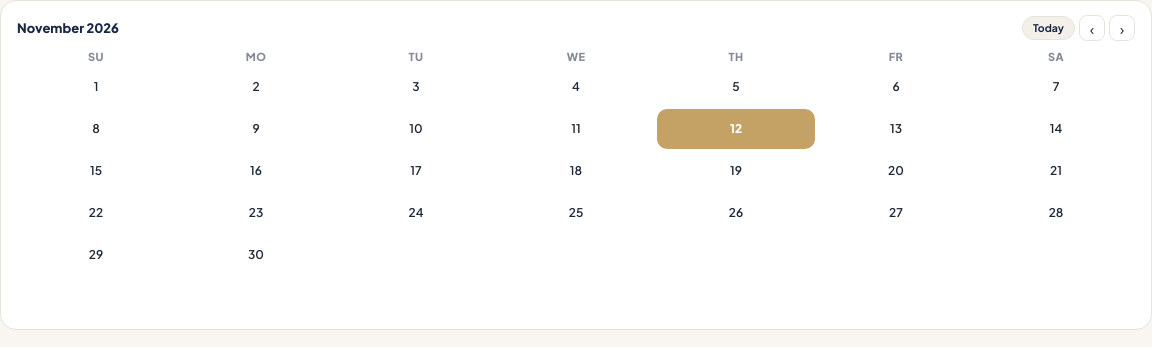
Test: 1. different month -> Today opens current month AND selects today
The image size is (1152, 347).
Click the button with aria-label "Go to today": (1048, 28) [1022,16,1075,40]
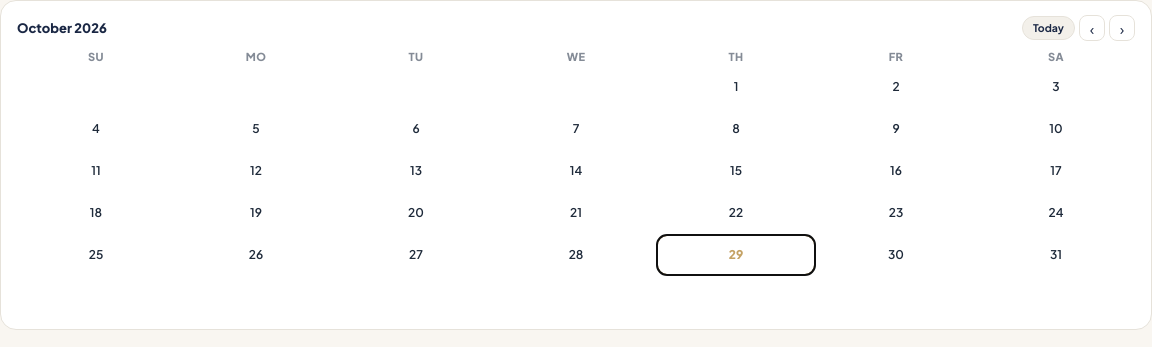
Expected: the button with class "is-today" reads "29", [657,235,815,275]
Now the button with class "is-today" is shown, box [657,235,815,275]
